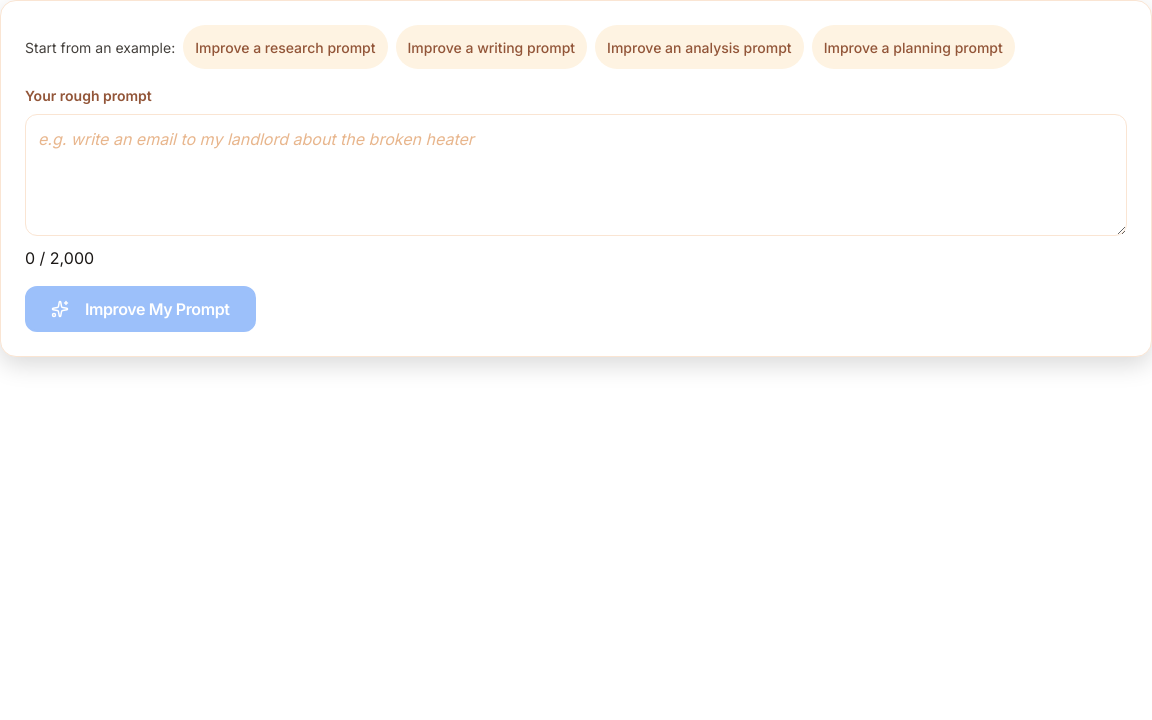
Scenario: PromptImprover › shows time-saved pills after a result and posts the chosen bucket
This screenshot has width=1152, height=720.
Type "make me a website" into the text box. click: (576, 175)
box: [25, 114, 1127, 236]
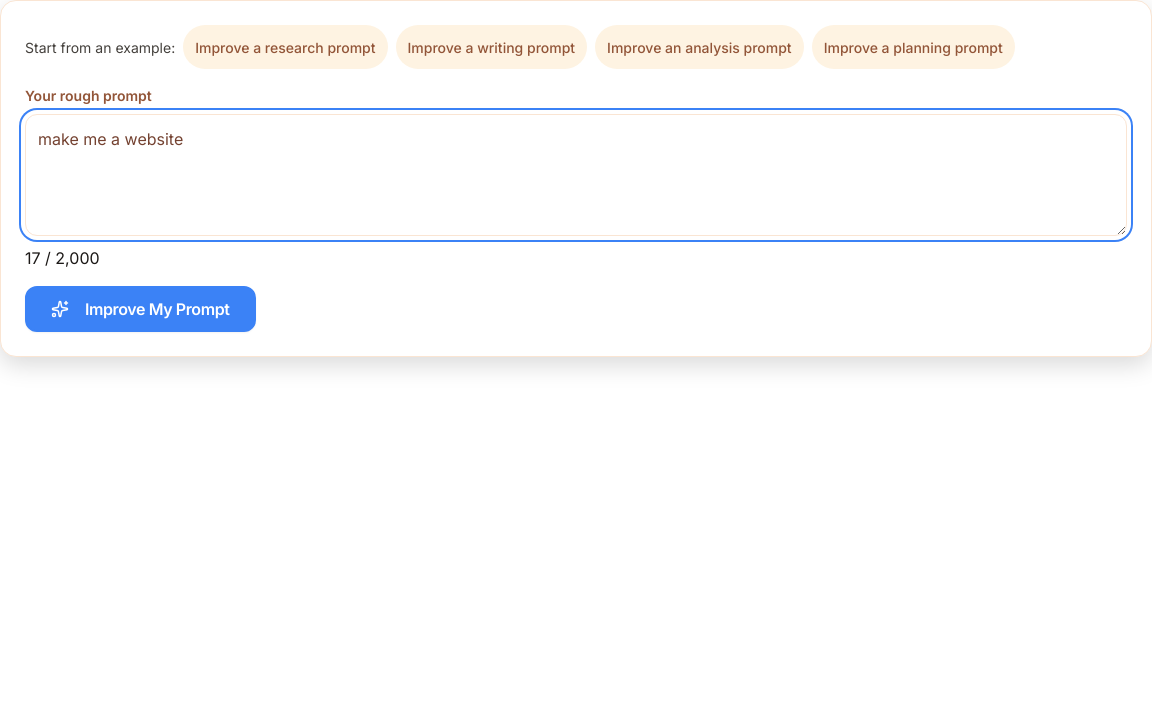
Click the button "Improve My Prompt". click: (140, 309)
box: [25, 286, 256, 332]
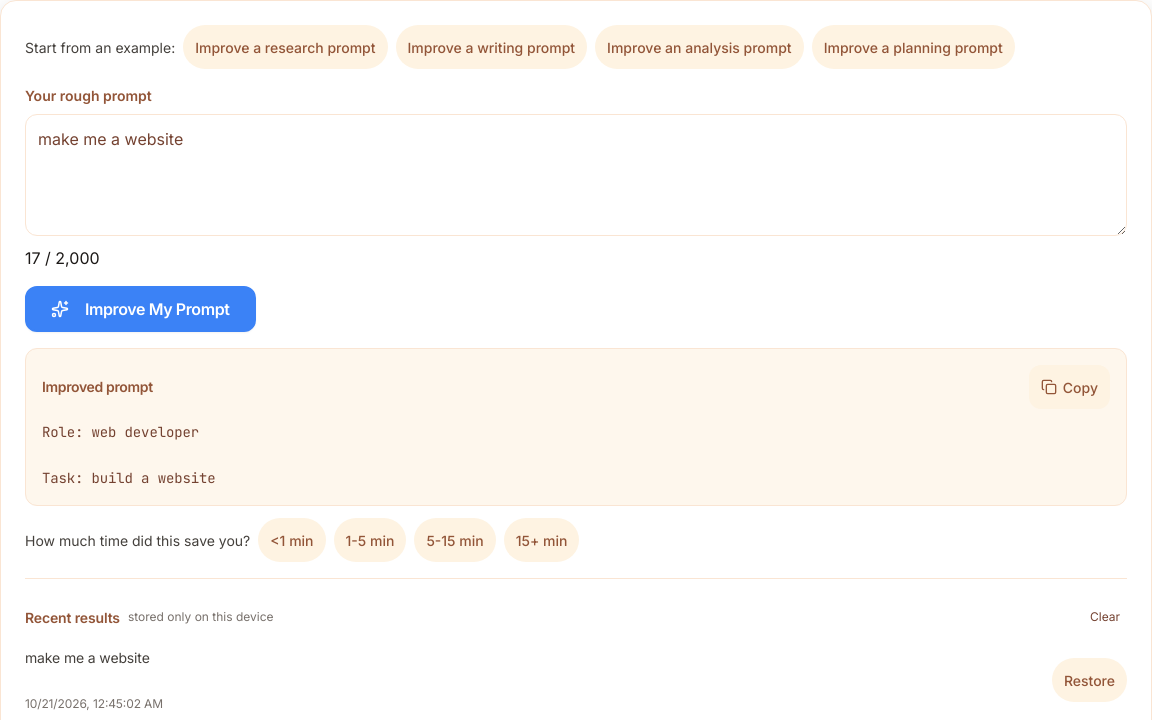
Expected: the text "Role: web developer Task: build a website" is shown, [42, 423, 216, 486]
Click the button "1-5 min". click: (370, 540)
box: [334, 518, 406, 562]
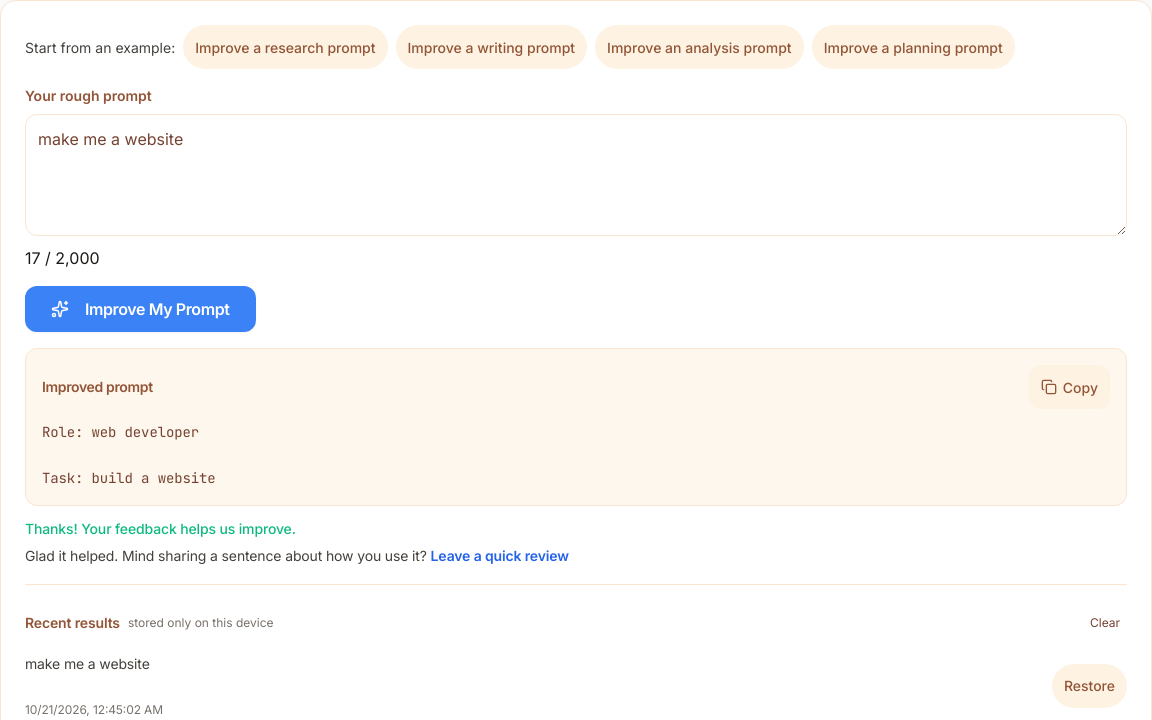
Expected: the text "Thanks! Your feedback helps us improve." is shown, [25, 520, 296, 537]
